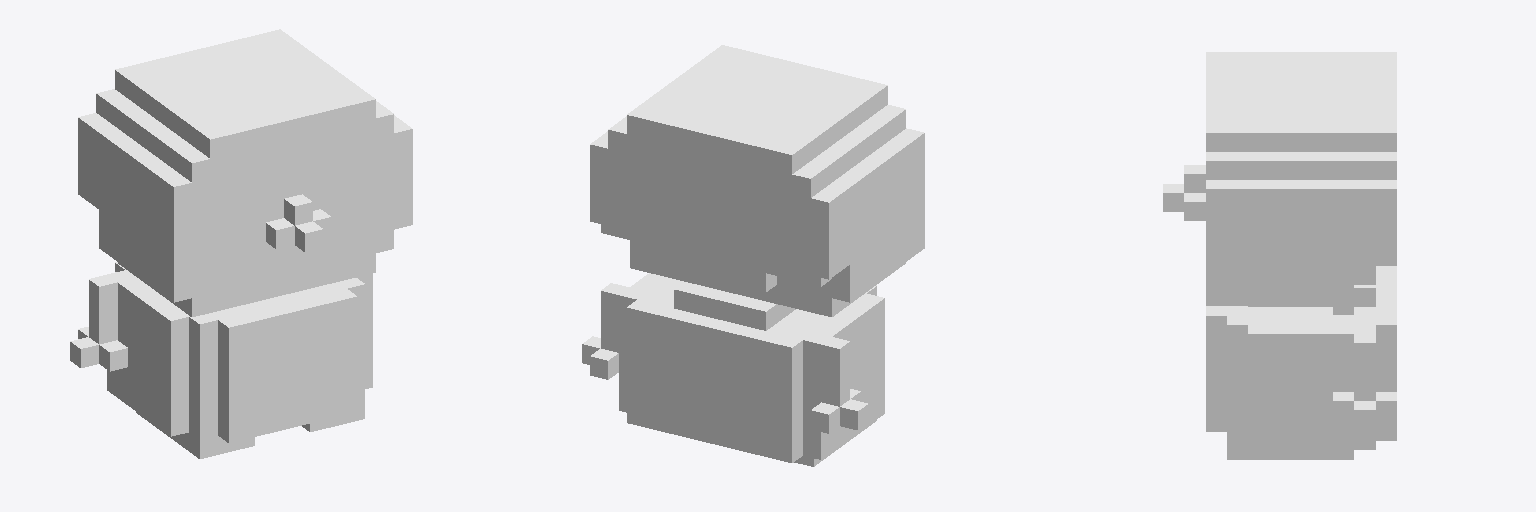
File: priest.obj
The picture shows the model from 3 angles: view 1: azimuth 30°, elevation 25°; view 2: azimuth 150°, elevation 25°; view 3: azimuth 270°, elevation 25°; orthographic projection.
Visible parts, largest first — view 1: object 1; view 2: object 1; view 3: object 1.
Boxes of the visible parts, <box> form: object 1: <box>70,29,412,458</box>; object 1: <box>582,45,924,466</box>; object 1: <box>1163,52,1396,459</box>.
Size of the model in its own units: 1.5 by 1.7 by 1.1.